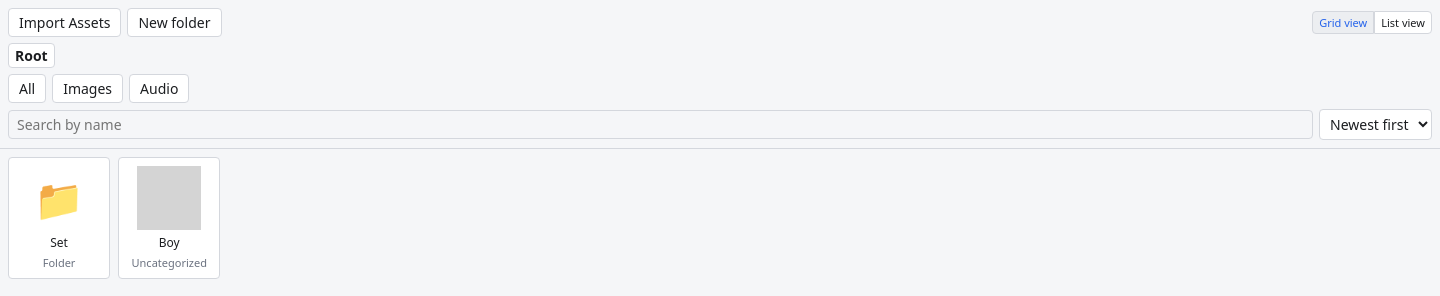
AssetsPanel folders › navigates into a folder on double click and back via Root
The width and height of the screenshot is (1440, 296).
Double-click the button with aria-label "Folder Set" at [59, 218], box [8,157,110,279]
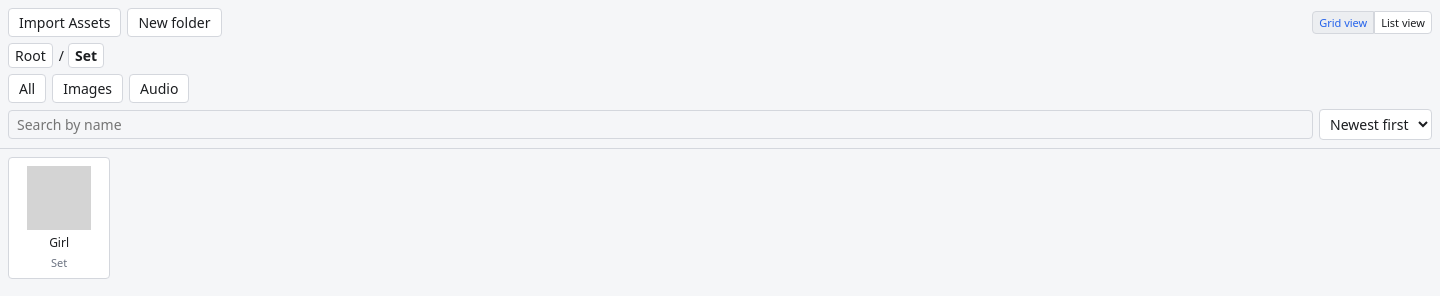
Expected: the button "Boy" is gone
Expected: the text "Girl" is shown, [49,234,69,251]
Click the button with aria-label "Go to root folder" at [30, 56], box [8,43,53,68]
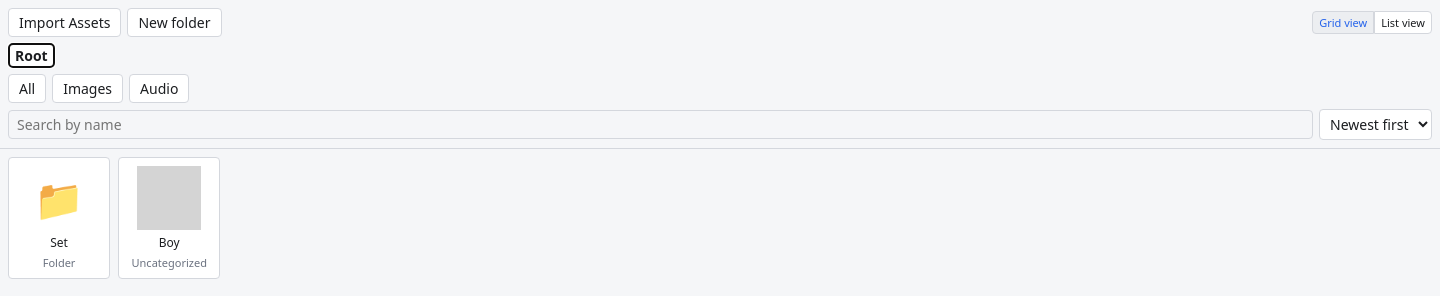
Expected: the text "Boy" is shown, [159,234,180,251]
